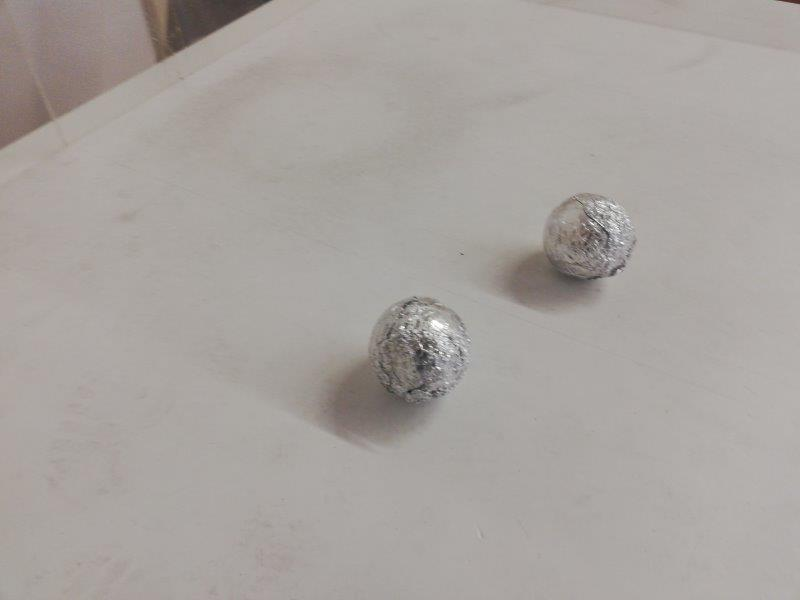bianca: (367, 297, 469, 404), (543, 193, 637, 280)
